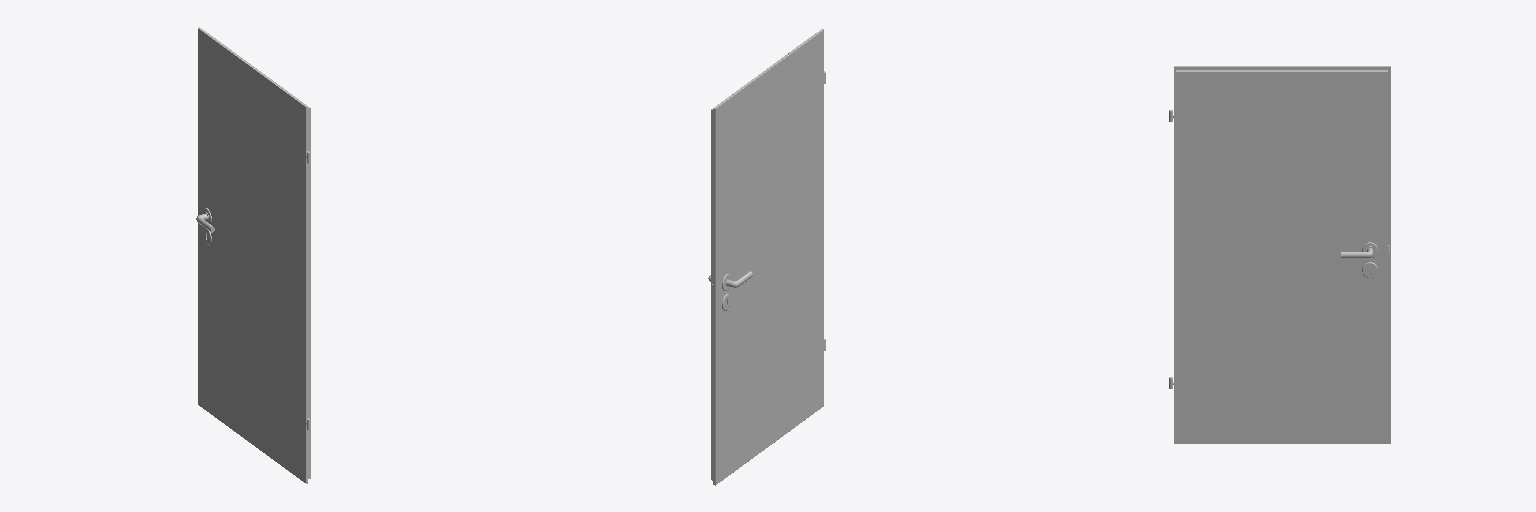
Rendered from door.obj.
3 views of the same model, side by side, from view 1: azimuth 30°, elevation 25°; view 2: azimuth 150°, elevation 25°; view 3: azimuth 270°, elevation 25° (orthographic).
Parts seen in each view (by area): view 1: Door_right; view 2: Door_right; view 3: Door_right.
Part boxes in pixels (x1,y1,x2,y2): Door_right: (196,27,310,483); Door_right: (708,29,825,485); Door_right: (1169,66,1390,443).
Bounding box in the file's own units: 36.28 × 432 × 230.